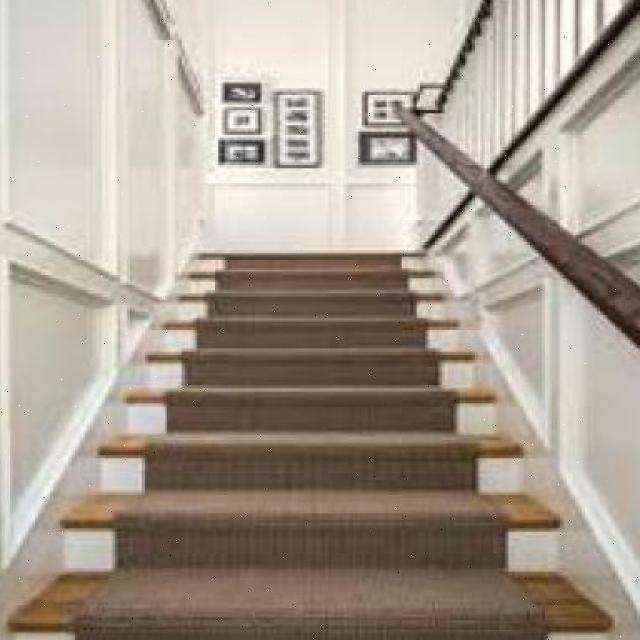stair: (35, 402, 612, 640)
